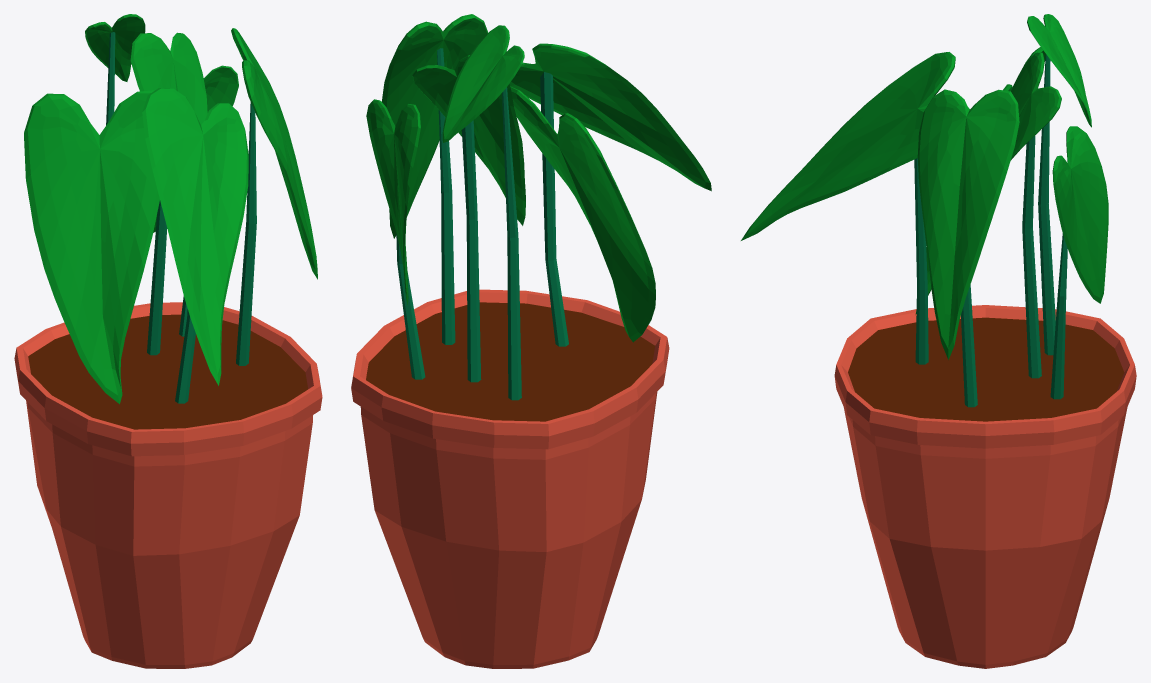
3 renders of one model, left to right at view 1: azimuth 30°, elevation 25°; view 2: azimuth 150°, elevation 25°; view 3: azimuth 270°, elevation 25°, orthographic. The views are drawn at different scales.
Parts seen in each view (by area): view 1: folhas; view 2: folhas; view 3: folhas.
Boxes of the visible parts, x1=… form: folhas: x1=14, y1=14, x2=322, y2=668; folhas: x1=351, y1=14, x2=711, y2=668; folhas: x1=741, y1=14, x2=1136, y2=668.
Bounding box in the file's own units: 244 × 323 × 546.
